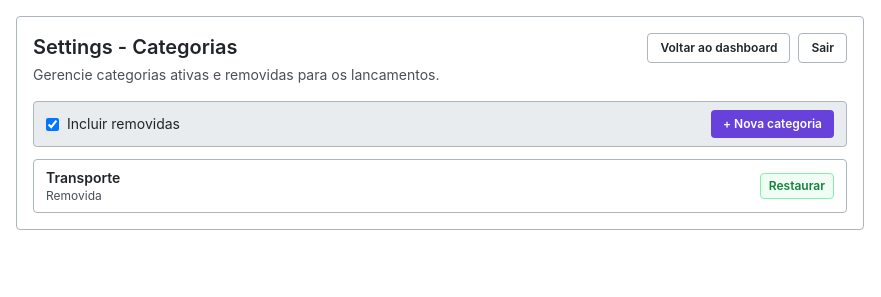
Test: CategoriesSettings › restaura categoria removida quando includeDeleted esta ativo
Expected: the text "Transporte" is shown, [46,168,120,188]
Click the button "Restaurar" at [797, 186], box [760,173,834,199]
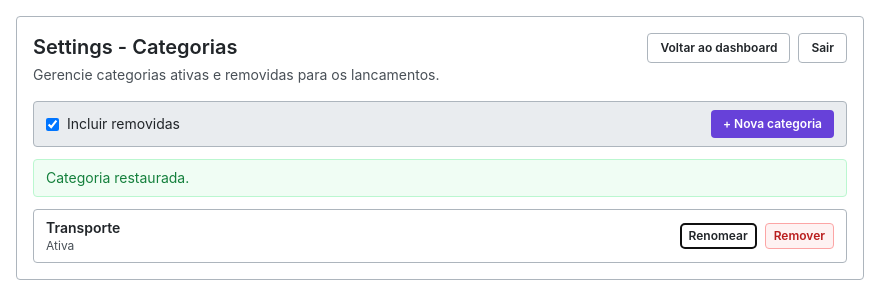
Now the text "Categoria restaurada." is shown, box [33,159,847,197]
